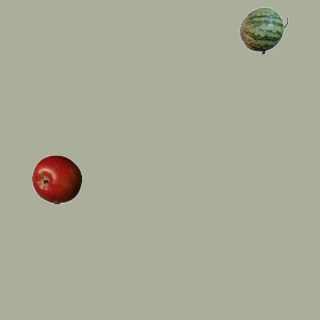Apple Braeburn: (31, 154, 81, 204)
Watermelon: (238, 5, 288, 55)
